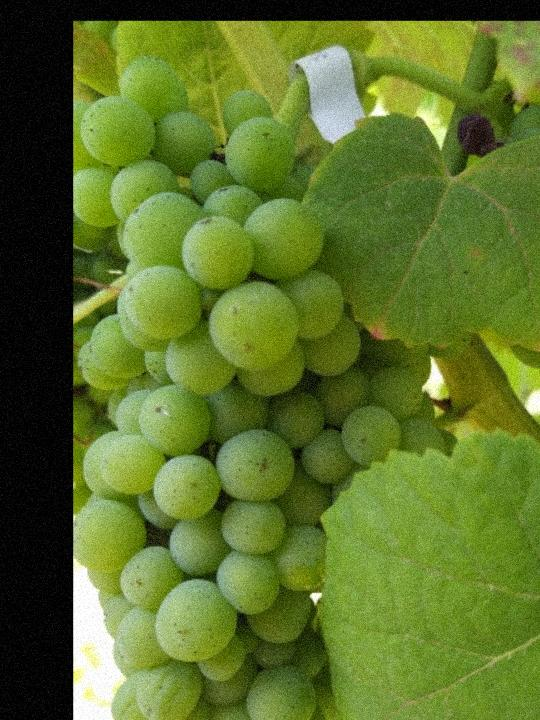grape: (43, 52, 470, 720)
